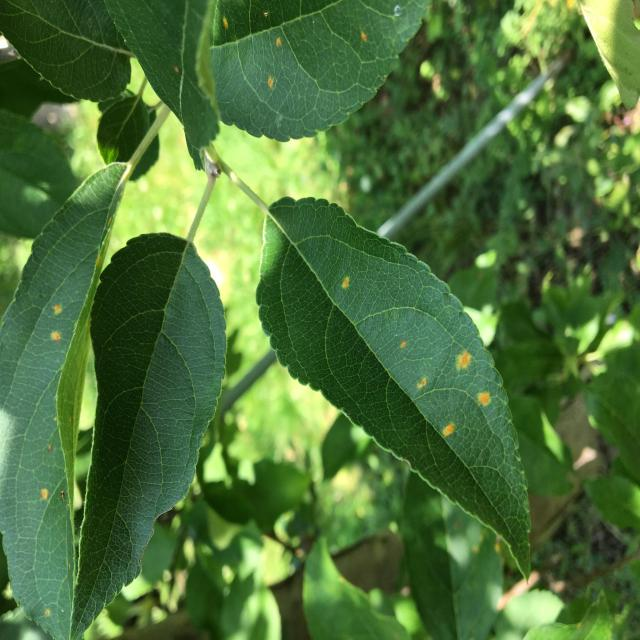Rust: (471, 385, 496, 413), (454, 344, 474, 375), (48, 294, 68, 323), (338, 272, 359, 299), (263, 72, 283, 100), (416, 372, 436, 399), (441, 419, 456, 450), (393, 330, 410, 355), (48, 326, 67, 346), (271, 33, 289, 52), (356, 28, 372, 49), (219, 13, 231, 36), (38, 485, 51, 506), (171, 59, 185, 78), (43, 442, 59, 458), (43, 605, 54, 621)
